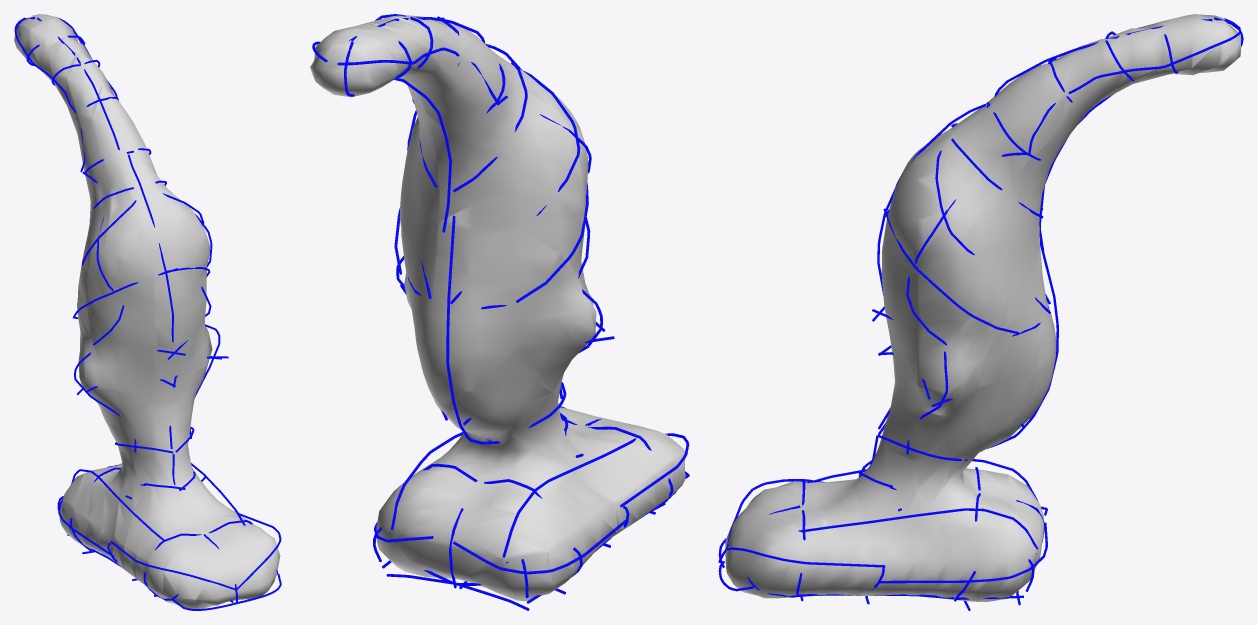
The model's file is cassie_vacuum_sketch_proxy.glb.
3 renders of one model, left to right at view 1: azimuth 30°, elevation 25°; view 2: azimuth 150°, elevation 25°; view 3: azimuth 270°, elevation 25°, orthographic. The views are drawn at different scales.
Parts seen in each view (by area): view 1: cassie_vacuum_surface, cassie_vacuum; view 2: cassie_vacuum_surface, cassie_vacuum; view 3: cassie_vacuum_surface, cassie_vacuum.
Part boxes in pixels (x1,y1,x2,y2): cassie_vacuum_surface: (14, 14, 280, 608); cassie_vacuum: (14, 15, 281, 610); cassie_vacuum_surface: (310, 15, 685, 601); cassie_vacuum: (312, 14, 689, 610); cassie_vacuum_surface: (725, 14, 1240, 601); cassie_vacuum: (718, 17, 1243, 610).
Size of the model in its own units: 0.3529 by 1.01 by 0.857.
